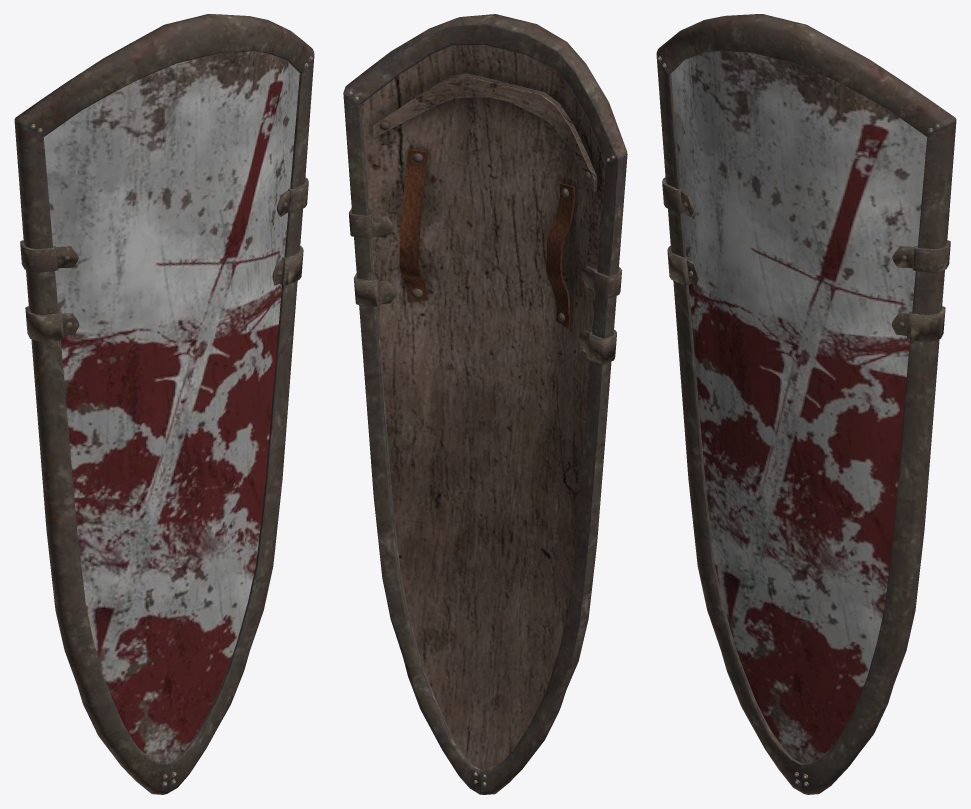
Rendered from kite_shield.glb.
3 renders of one model, left to right at view 1: azimuth 30°, elevation 25°; view 2: azimuth 150°, elevation 25°; view 3: azimuth 330°, elevation 25°, orthographic. The views are drawn at different scales.
Visible parts, largest first — view 1: kite_shield_body, kite_shield_metal_trim; view 2: kite_shield_body, kite_shield_metal_trim; view 3: kite_shield_body, kite_shield_metal_trim.
Boxes of the visible parts, bbox=[...] form: kite_shield_body: bbox=[43, 51, 299, 764]; kite_shield_metal_trim: bbox=[14, 14, 314, 794]; kite_shield_body: bbox=[361, 45, 606, 770]; kite_shield_metal_trim: bbox=[343, 14, 627, 794]; kite_shield_body: bbox=[671, 51, 927, 763]; kite_shield_metal_trim: bbox=[656, 14, 956, 794].
Bounding box in the file's own units: 0.5433 × 1.39 × 0.1347.
2 materials, 2 textured.
